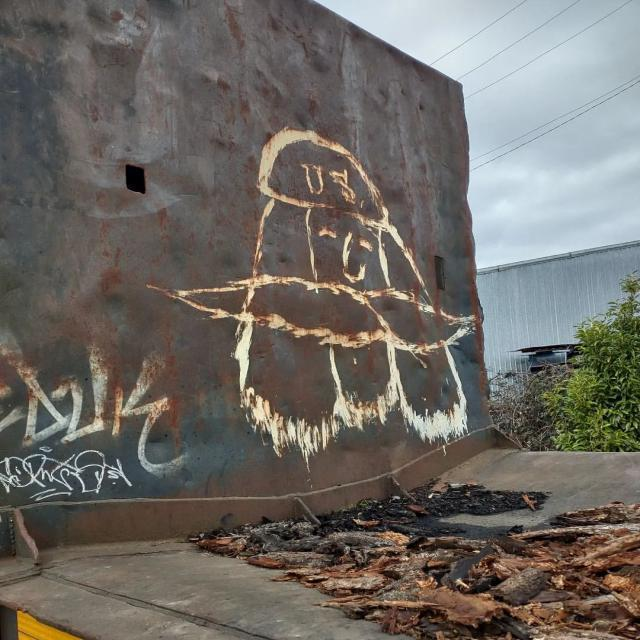nonspitting: (170, 130, 476, 458), (0, 324, 186, 476), (0, 444, 134, 503)
